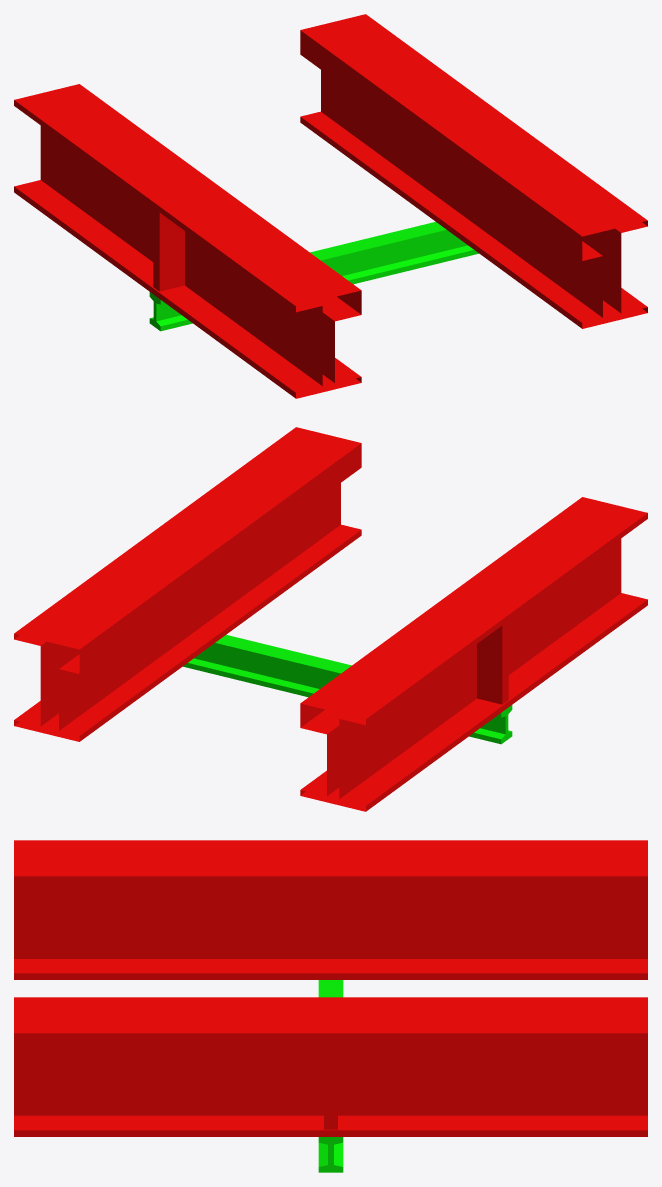
The model's file is fourD_track_MOCKUP.fbx.
The picture shows the model from 3 angles, top to bottom: view 1: azimuth 30°, elevation 25°; view 2: azimuth 150°, elevation 25°; view 3: azimuth 270°, elevation 25°; orthographic projection. The views are drawn at different scales.
Visible parts, largest first — view 1: fourD_track_MOCKUP; view 2: fourD_track_MOCKUP; view 3: fourD_track_MOCKUP.
Boxes of the visible parts, bbox=[...] form: fourD_track_MOCKUP: bbox=[14, 14, 647, 398]; fourD_track_MOCKUP: bbox=[14, 427, 647, 811]; fourD_track_MOCKUP: bbox=[14, 840, 647, 1172].
Bounding box in the file's own units: 0.7199 × 0.2428 × 1.
